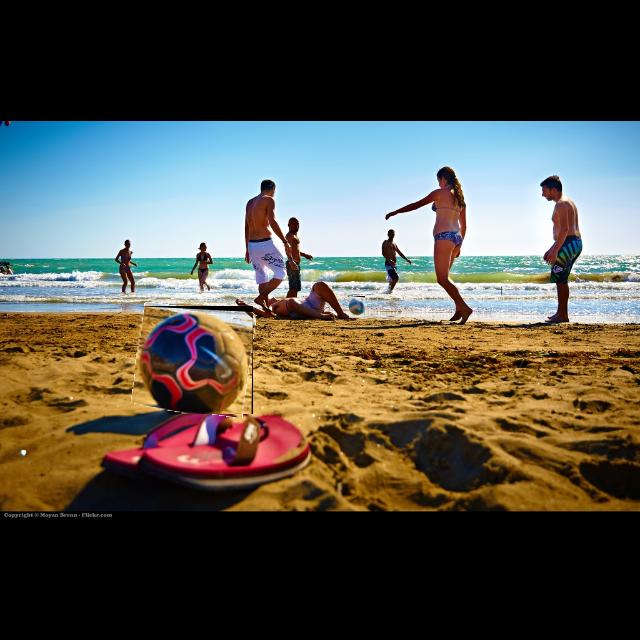Football: (135, 306, 253, 414), (349, 296, 365, 318)
